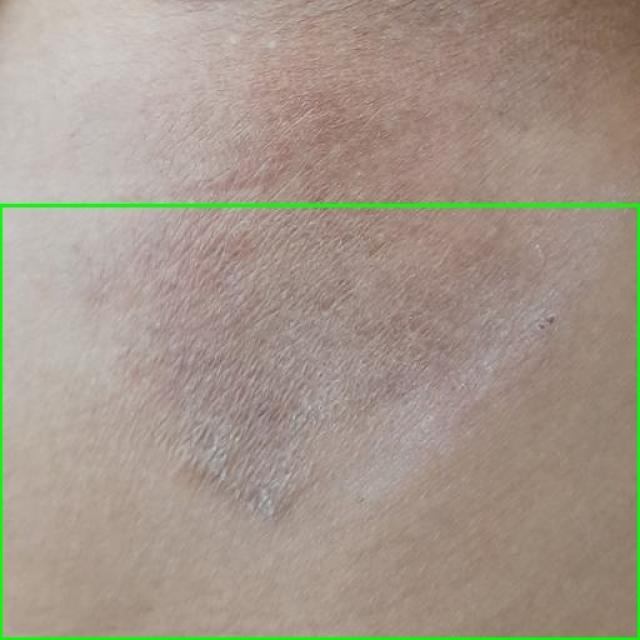Contact Dermatitis: (0, 205, 639, 639)
